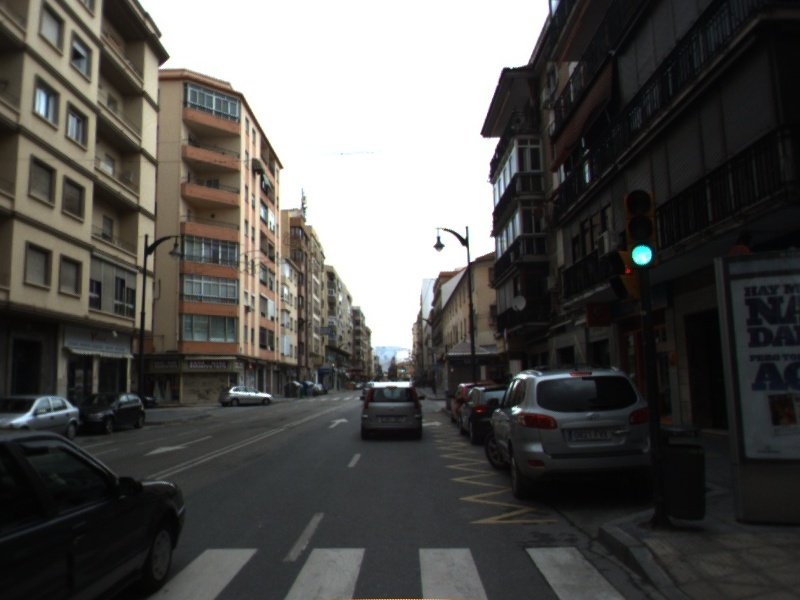STRAIGHT: (326, 416, 350, 429)
